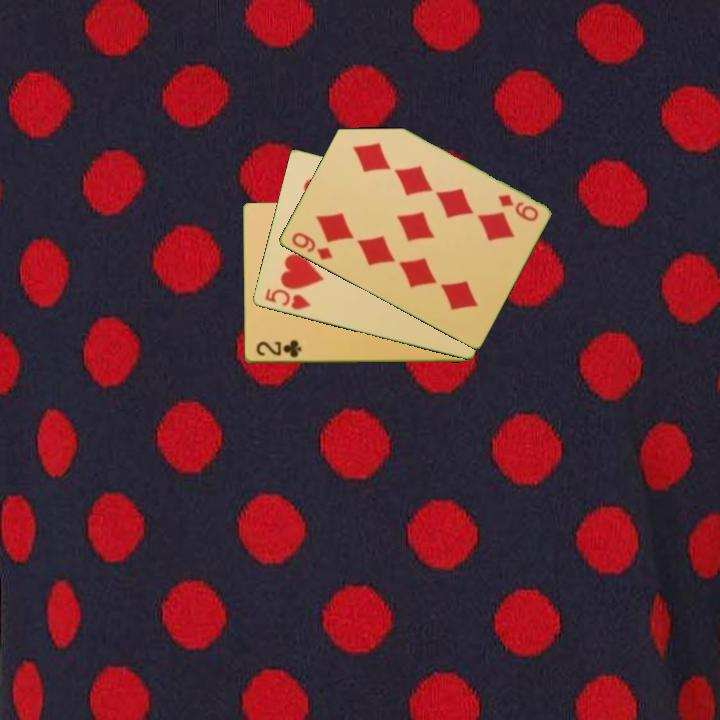2c: (252, 337, 304, 361)
5h: (261, 285, 313, 313)
9d: (288, 229, 336, 263), (494, 191, 541, 225)
